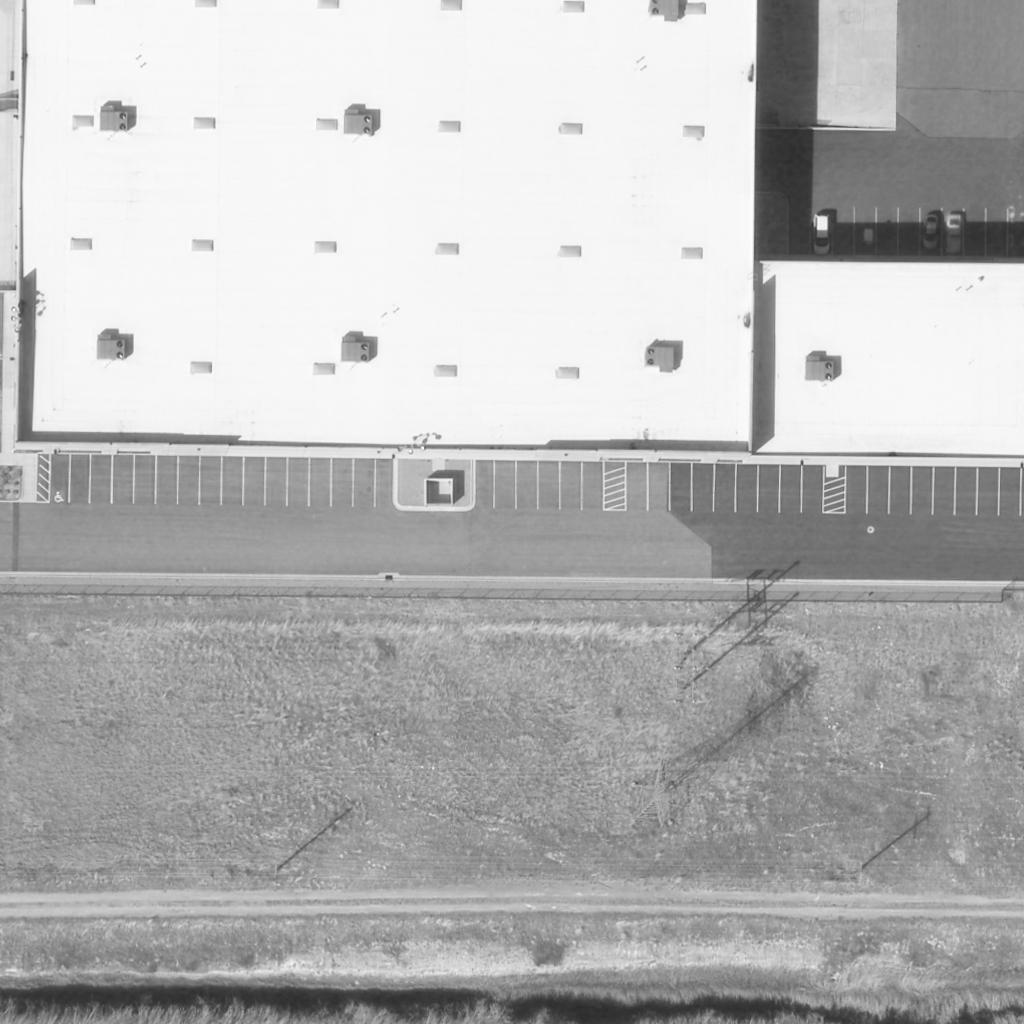vehicle: (812, 214, 834, 258), (945, 215, 963, 255), (923, 215, 941, 253)
